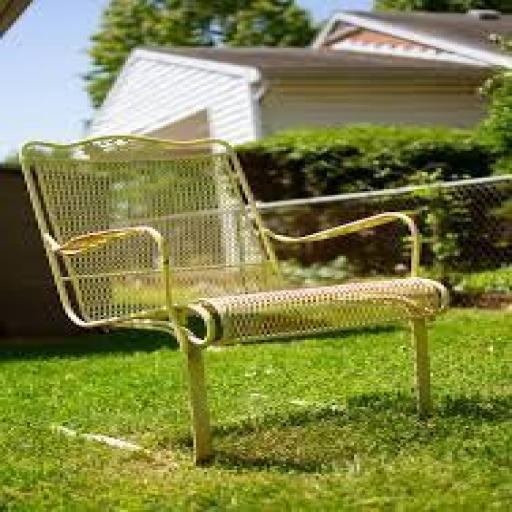chair: (18, 134, 445, 464)
